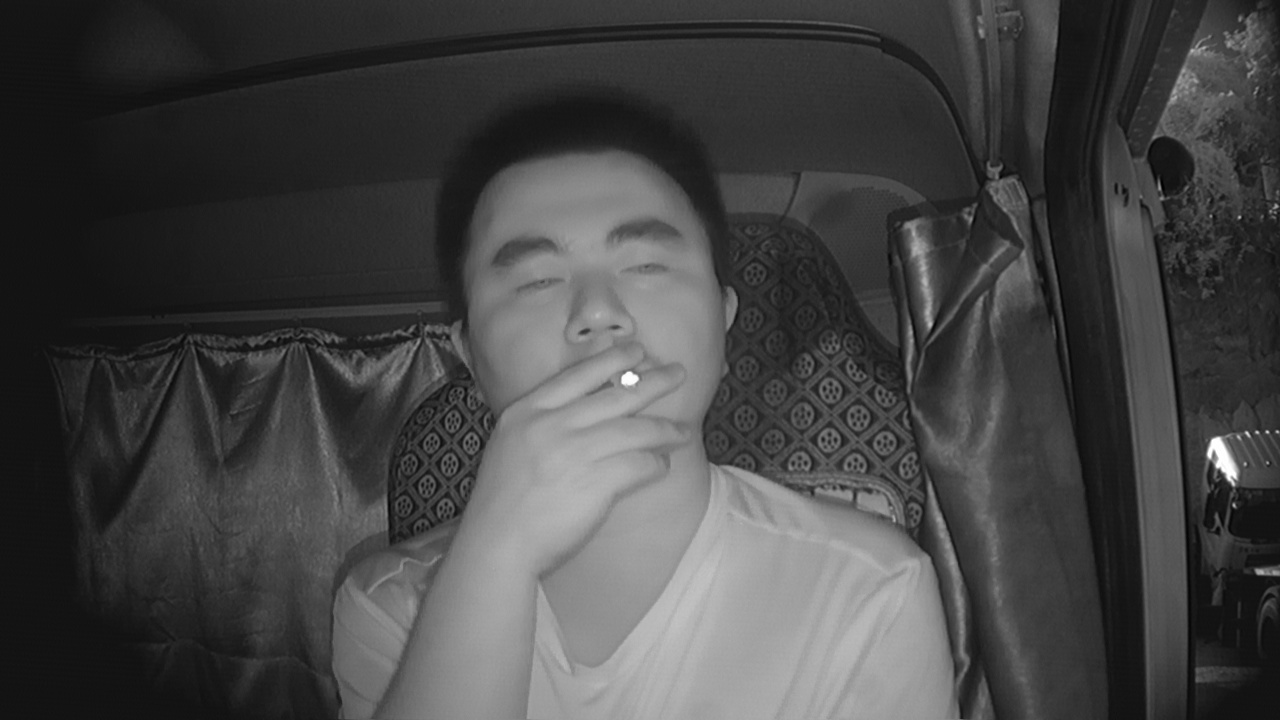hand: (535, 340, 698, 509)
